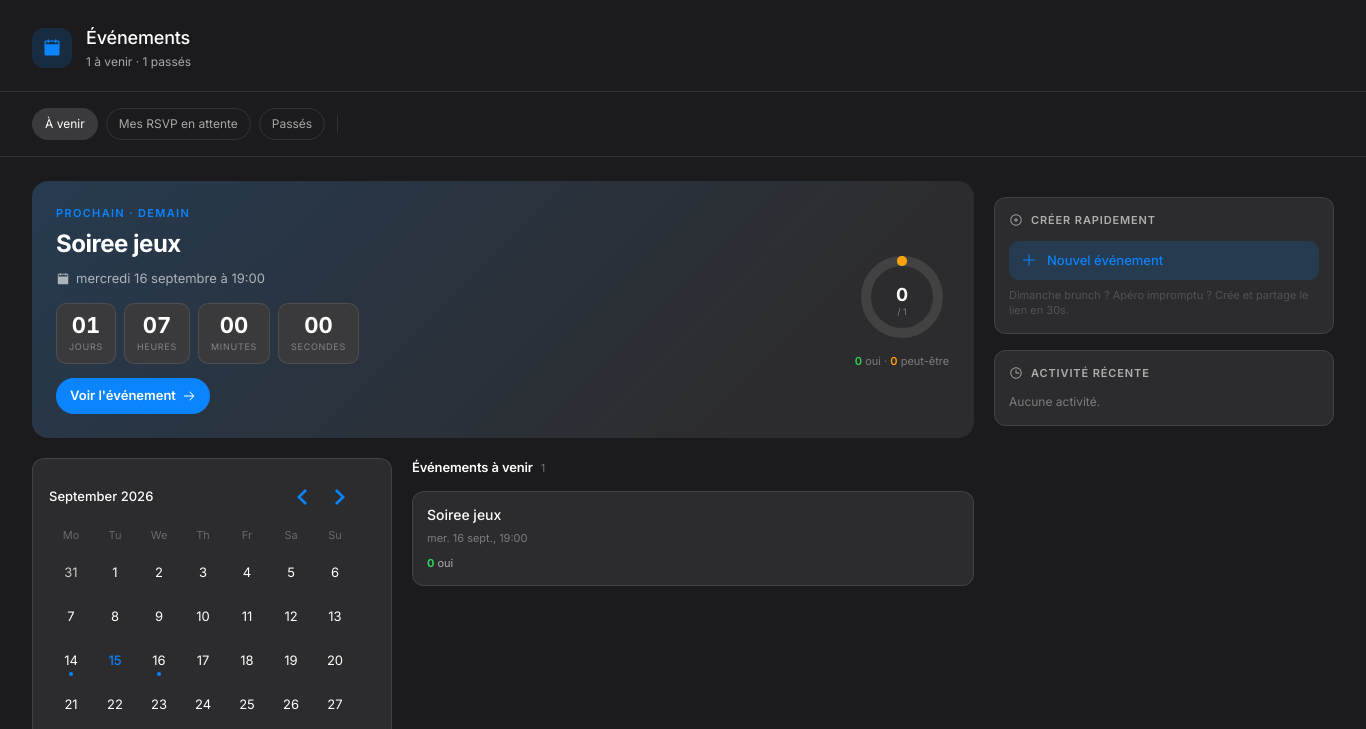
Scenario: EventsDashboard — le calendrier montre le passé comme le futur › liste l'événement d'un jour passé quand on le sélectionne, sans changer de chip
This screenshot has width=1366, height=729.
Click the button "14": coordinates (71, 661) [50,640,92,682]
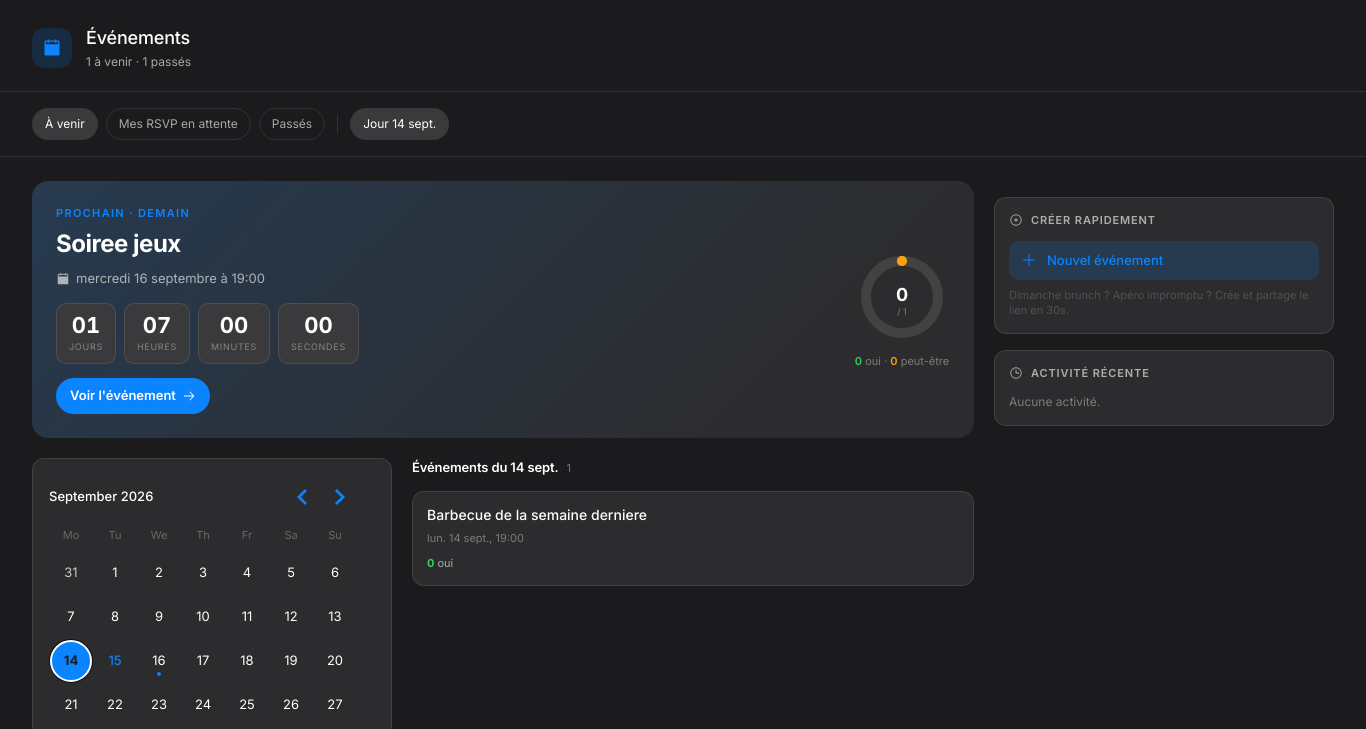
Expected: the text "Barbecue de la semaine derniere" is shown, [427,506,647,524]
